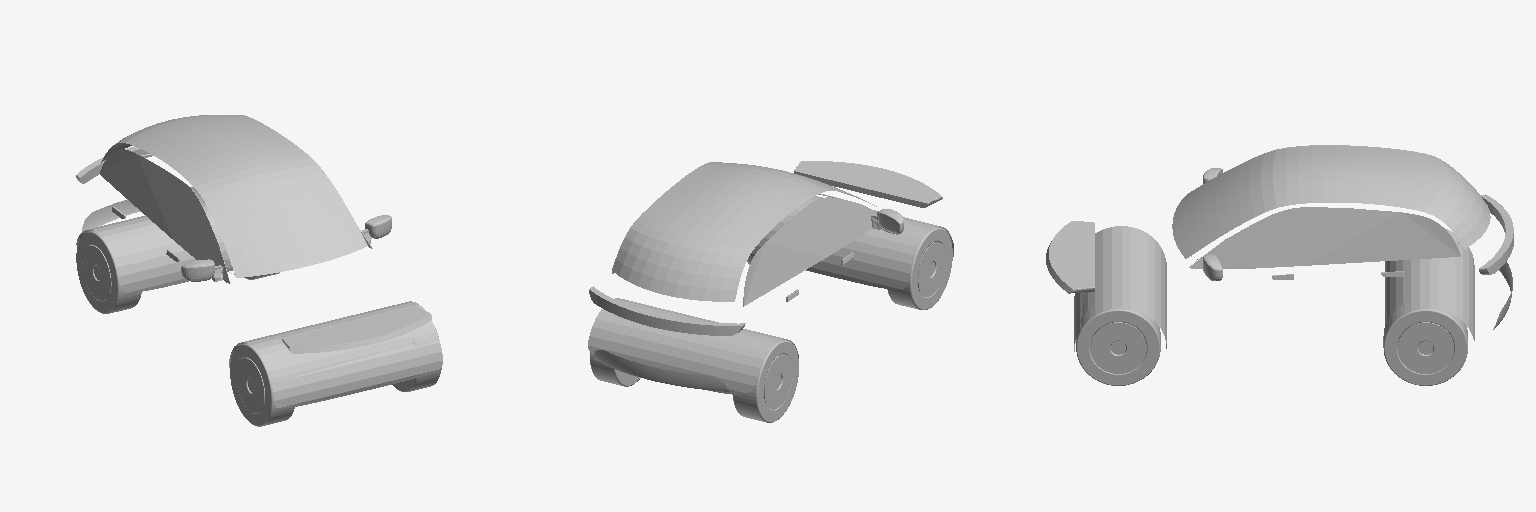
File: uberXL.obj
3 renders of one model, left to right at view 1: azimuth 30°, elevation 25°; view 2: azimuth 150°, elevation 25°; view 3: azimuth 270°, elevation 25°, orthographic.
Visible parts, largest first — view 1: Glass, body, Tire, HEADLIGHT.1, Inner, SIDE_MIRROR.1, Rear_Diffuser; view 2: Glass, body, Tire, HEADLIGHT.1, Inner, TAILLAMP.1, Rear_Diffuser, SIDE_MIRROR.1; view 3: Glass, body, Tire, Inner, HEADLIGHT.1, TAILLAMP.1, SIDE_MIRROR.1.
Boxes of the visible parts, x1=… form: Glass: x1=100, y1=115, x2=372, y2=283; body: x1=76, y1=154, x2=442, y2=408; Tire: x1=76, y1=231, x2=441, y2=426; HEADLIGHT.1: x1=282, y1=306, x2=431, y2=353; Inner: x1=82, y1=245, x2=264, y2=412; SIDE_MIRROR.1: x1=181, y1=215, x2=391, y2=281; Rear_Diffuser: x1=82, y1=187, x2=203, y2=231; Glass: x1=612, y1=162, x2=876, y2=306; body: x1=588, y1=194, x2=953, y2=394; Tire: x1=590, y1=227, x2=952, y2=422; HEADLIGHT.1: x1=794, y1=161, x2=942, y2=207; Inner: x1=764, y1=242, x2=946, y2=409; TAILLAMP.1: x1=589, y1=286, x2=745, y2=335; Rear_Diffuser: x1=594, y1=350, x2=728, y2=393; SIDE_MIRROR.1: x1=871, y1=209, x2=903, y2=234; Glass: x1=1172, y1=145, x2=1490, y2=268; body: x1=1074, y1=226, x2=1474, y2=351; Tire: x1=1076, y1=302, x2=1467, y2=385; Inner: x1=1090, y1=322, x2=1453, y2=373; HEADLIGHT.1: x1=1046, y1=221, x2=1094, y2=293; TAILLAMP.1: x1=1479, y1=194, x2=1513, y2=274; SIDE_MIRROR.1: x1=1203, y1=168, x2=1222, y2=280.
Bounding box in the file's own units: 5.49 × 4.5 × 10.69.